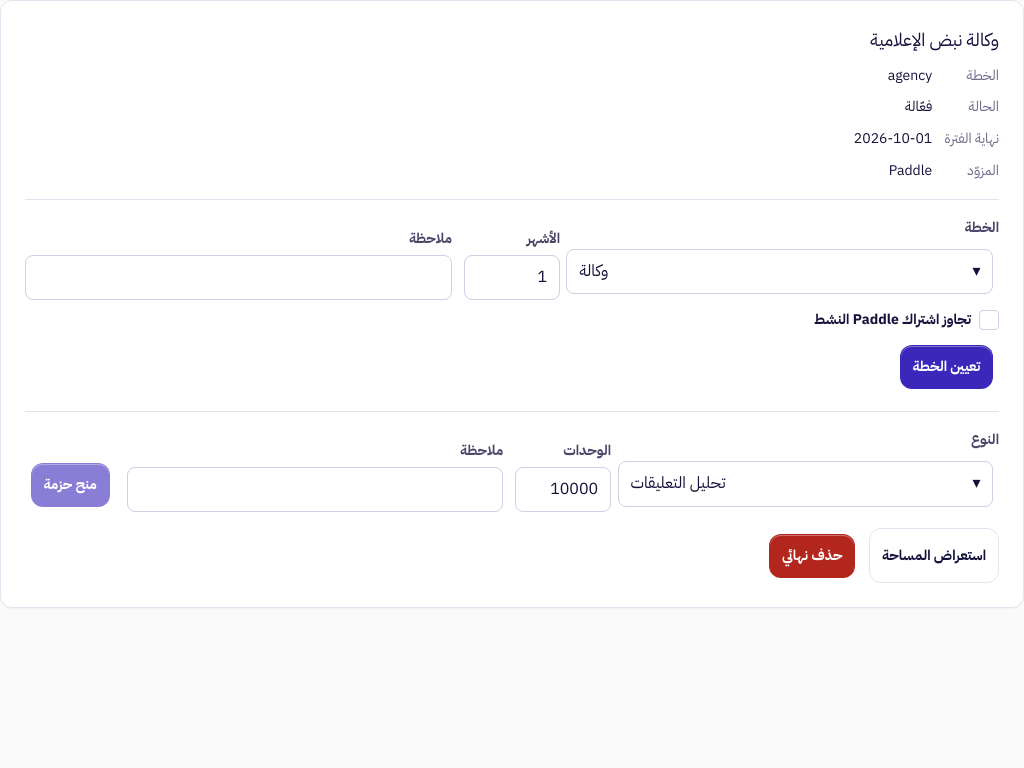
Test: WorkspaceRow › the pack form needs both a positive whole number of units and a note before it will send
This screenshot has width=1024, height=768.
Expected: the button "منح حزمة" is disabled, [31,462,110,506]
Type "حزمة الإطلاق" into the field labelled "ملاحظة" below "الوحدات" at (315, 490), box [127,467,503,512]
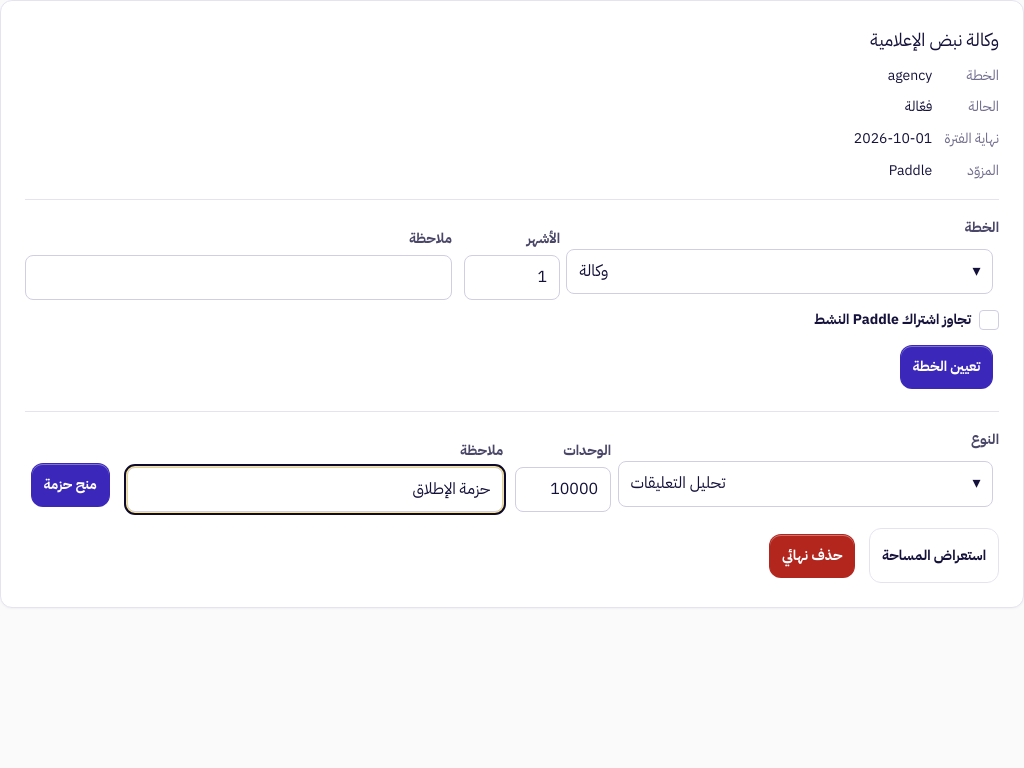
Now the button "منح حزمة" is enabled, box [31,462,110,506]
Clear the number field labelled "الوحدات" at (563, 490), box [515,467,611,512]
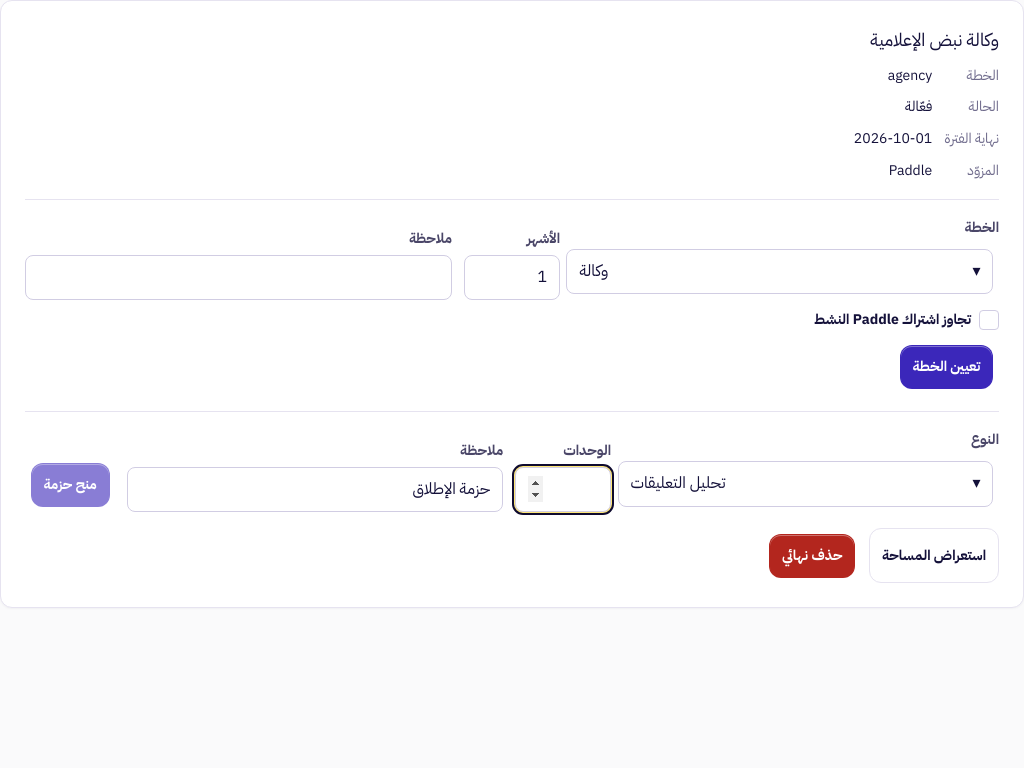
Now the button "منح حزمة" is disabled, box [31,462,110,506]
Type "0" into the number field labelled "الوحدات" at (563, 490), box [515,467,611,512]
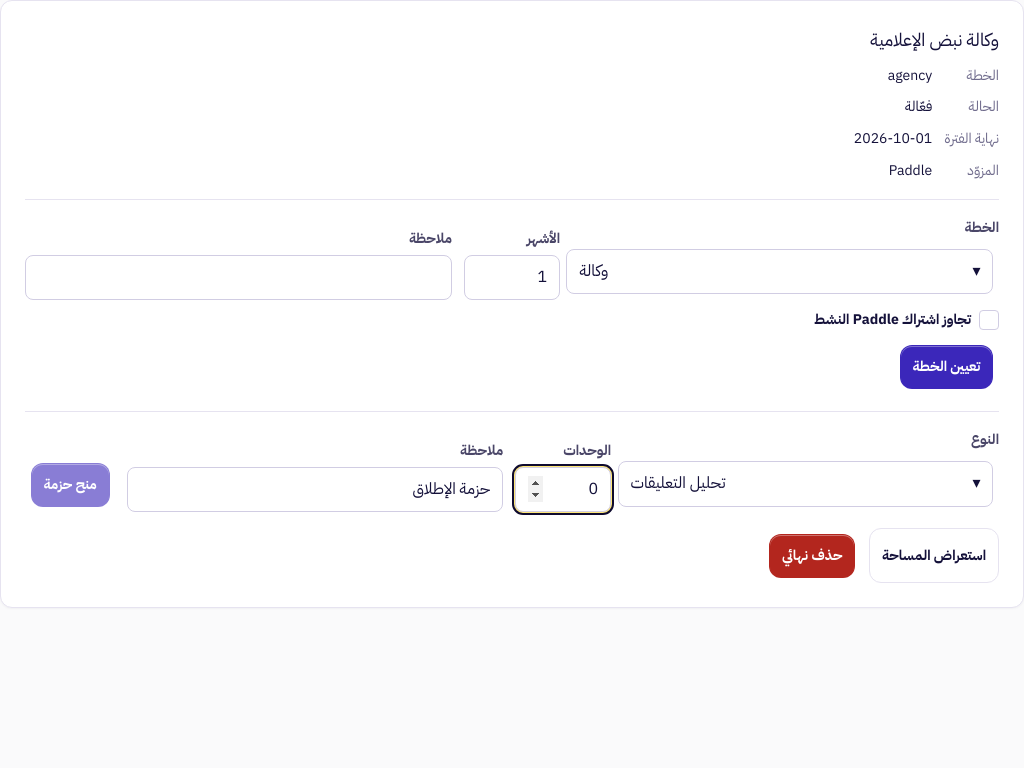
Now the button "منح حزمة" is disabled, box [31,462,110,506]
Replace the text in the number field labelled "الوحدات" with "2500" at (563, 490), box [515,467,611,512]
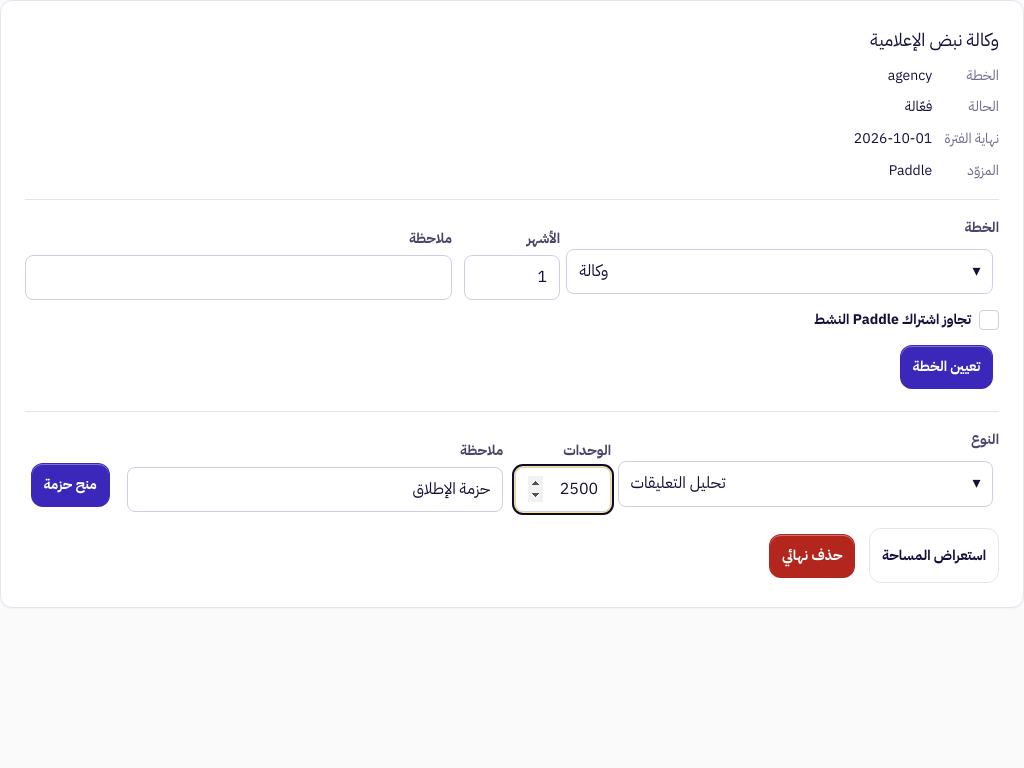
Now the button "منح حزمة" is enabled
Click the button "منح حزمة" at (70, 484), box [31,462,110,506]
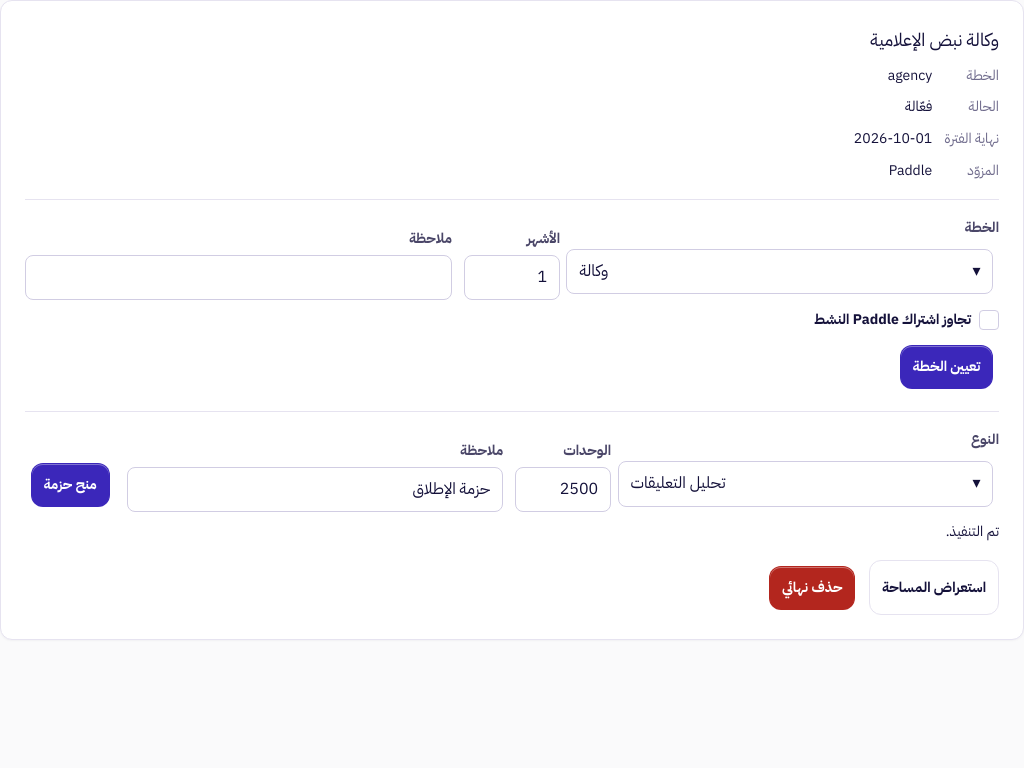
Now the message reads "تم التنفيذ.", box [946,521,999,542]
